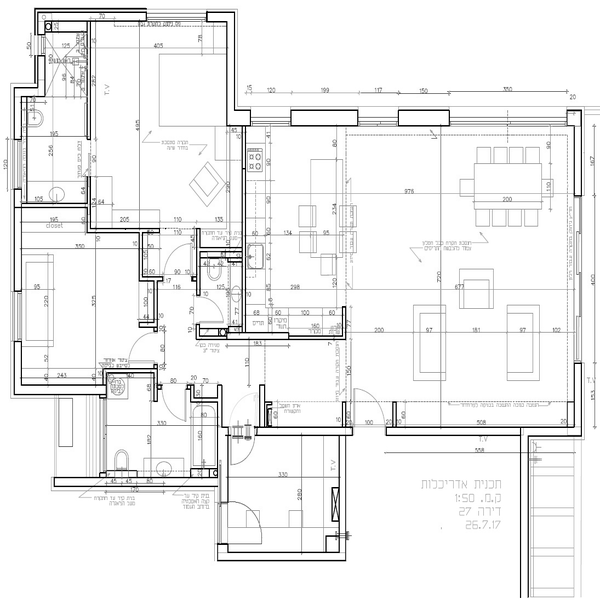door: (217, 496, 267, 549), (227, 426, 264, 472), (347, 394, 389, 434), (124, 327, 167, 364), (160, 243, 200, 280), (195, 286, 226, 331), (158, 385, 187, 425)
room: (237, 101, 587, 446), (83, 4, 241, 237), (3, 196, 111, 405), (212, 422, 349, 565), (43, 383, 225, 489), (138, 228, 249, 338), (14, 5, 100, 134)
wall: (386, 423, 583, 440), (53, 472, 216, 491), (517, 426, 535, 597), (216, 542, 344, 564), (218, 4, 240, 126), (211, 383, 232, 504), (82, 16, 97, 143), (31, 8, 148, 24), (14, 383, 109, 400), (338, 435, 349, 562), (14, 187, 27, 294), (257, 424, 353, 438), (80, 222, 165, 236), (399, 108, 453, 130), (287, 110, 361, 126), (191, 226, 206, 304), (12, 79, 29, 142), (227, 331, 294, 345), (105, 365, 160, 381), (31, 54, 47, 101), (131, 237, 147, 282), (85, 175, 96, 237), (11, 344, 23, 400), (149, 280, 161, 329)
window: (569, 201, 586, 360), (450, 108, 570, 126), (148, 9, 208, 27), (12, 291, 30, 349), (7, 142, 28, 184), (357, 106, 403, 124), (251, 105, 289, 124), (31, 33, 49, 55)
